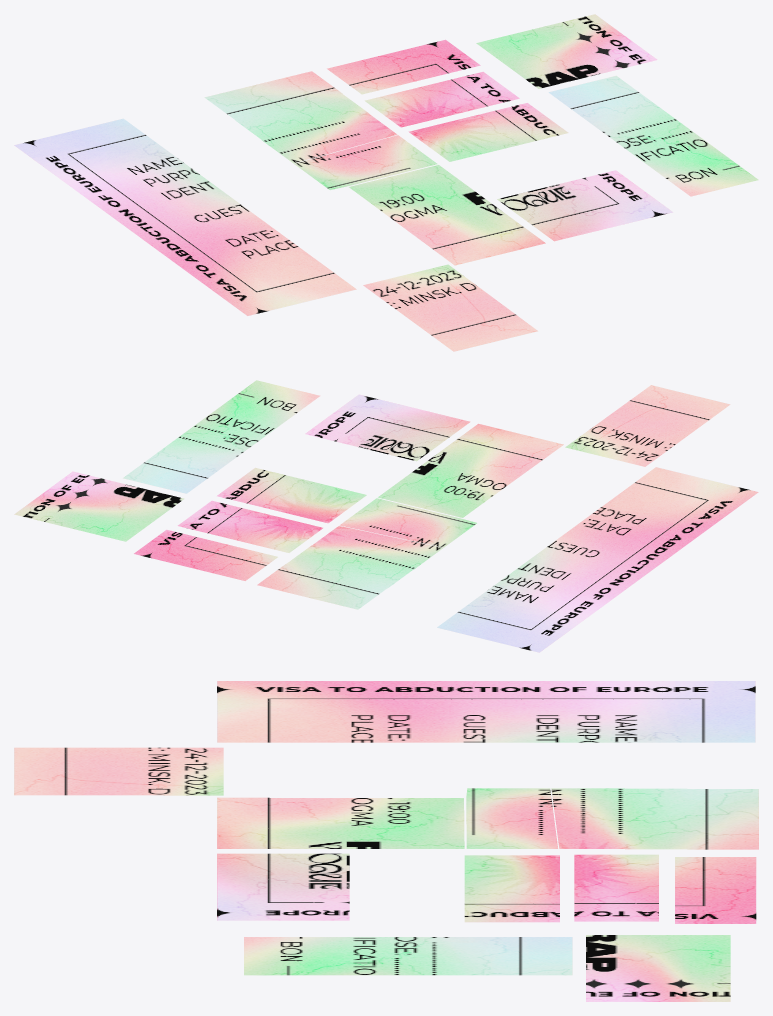
The model's file is Masks.fbx.
3 views of the same model, one above another, from view 1: azimuth 30°, elevation 25°; view 2: azimuth 150°, elevation 25°; view 3: azimuth 270°, elevation 25° (orthographic). The views are drawn at different scales.
Parts seen in each view (by area): view 1: Masks.005, Masks.012, Masks, Masks.001, Masks.013, Masks.002, Masks.014, Masks.003, Masks.017, Masks.004, Masks.011, Masks.015 (+9 smaller); view 2: Masks.005, Masks.012, Masks, Masks.001, Masks.013, Masks.002, Masks.014, Masks.003, Masks.017, Masks.004, Masks.011, Masks.015 (+9 smaller); view 3: Masks.005, Masks.012, Masks, Masks.001, Masks.013, Masks.002, Masks.014, Masks.003, Masks.004, Masks.017, Masks.011, Masks.015 (+9 smaller).
Boxes of the visible parts, left/top/right/bottom form: Masks.005: left=548, top=75, right=758, bottom=196; Masks.012: left=476, top=14, right=657, bottom=88; Masks: left=181, top=241, right=356, bottom=315; Masks.001: left=497, top=170, right=672, bottom=241; Masks.013: left=408, top=103, right=568, bottom=161; Masks.002: left=14, top=118, right=163, bottom=174; Masks.014: left=364, top=71, right=519, bottom=127; Masks.003: left=327, top=39, right=480, bottom=94; Masks.017: left=294, top=135, right=437, bottom=189; Masks.004: left=363, top=274, right=497, bottom=351; Masks.011: left=146, top=215, right=290, bottom=267; Masks.015: left=407, top=264, right=537, bottom=340; Masks.005: left=123, top=380, right=320, bottom=493; Masks.012: left=14, top=471, right=184, bottom=541; Masks: left=594, top=467, right=758, bottom=537; Masks.001: left=305, top=394, right=470, bottom=461; Masks.013: left=217, top=467, right=366, bottom=523; Masks.002: left=437, top=600, right=576, bottom=652; Masks.014: left=177, top=500, right=322, bottom=552; Masks.003: left=134, top=529, right=277, bottom=580; Masks.017: left=340, top=498, right=476, bottom=547; Masks.004: left=604, top=394, right=730, bottom=466; Masks.011: left=561, top=512, right=696, bottom=561; Masks.015: left=565, top=385, right=688, bottom=456; Masks.005: left=244, top=937, right=572, bottom=975; Masks.012: left=586, top=935, right=730, bottom=1001; Masks: left=217, top=681, right=369, bottom=742; Masks.001: left=217, top=853, right=349, bottom=920; Masks.013: left=464, top=855, right=559, bottom=922; Masks.002: left=662, top=681, right=755, bottom=742; Masks.014: left=574, top=854, right=658, bottom=921; Masks.003: left=675, top=857, right=756, bottom=923; Masks.004: left=14, top=747, right=223, bottom=772; Masks.017: left=466, top=788, right=557, bottom=848; Masks.011: left=369, top=681, right=451, bottom=742; Masks.015: left=14, top=772, right=223, bottom=795.
Bounding box in the file's own units: 564 × 3.98e-05 × 553.
